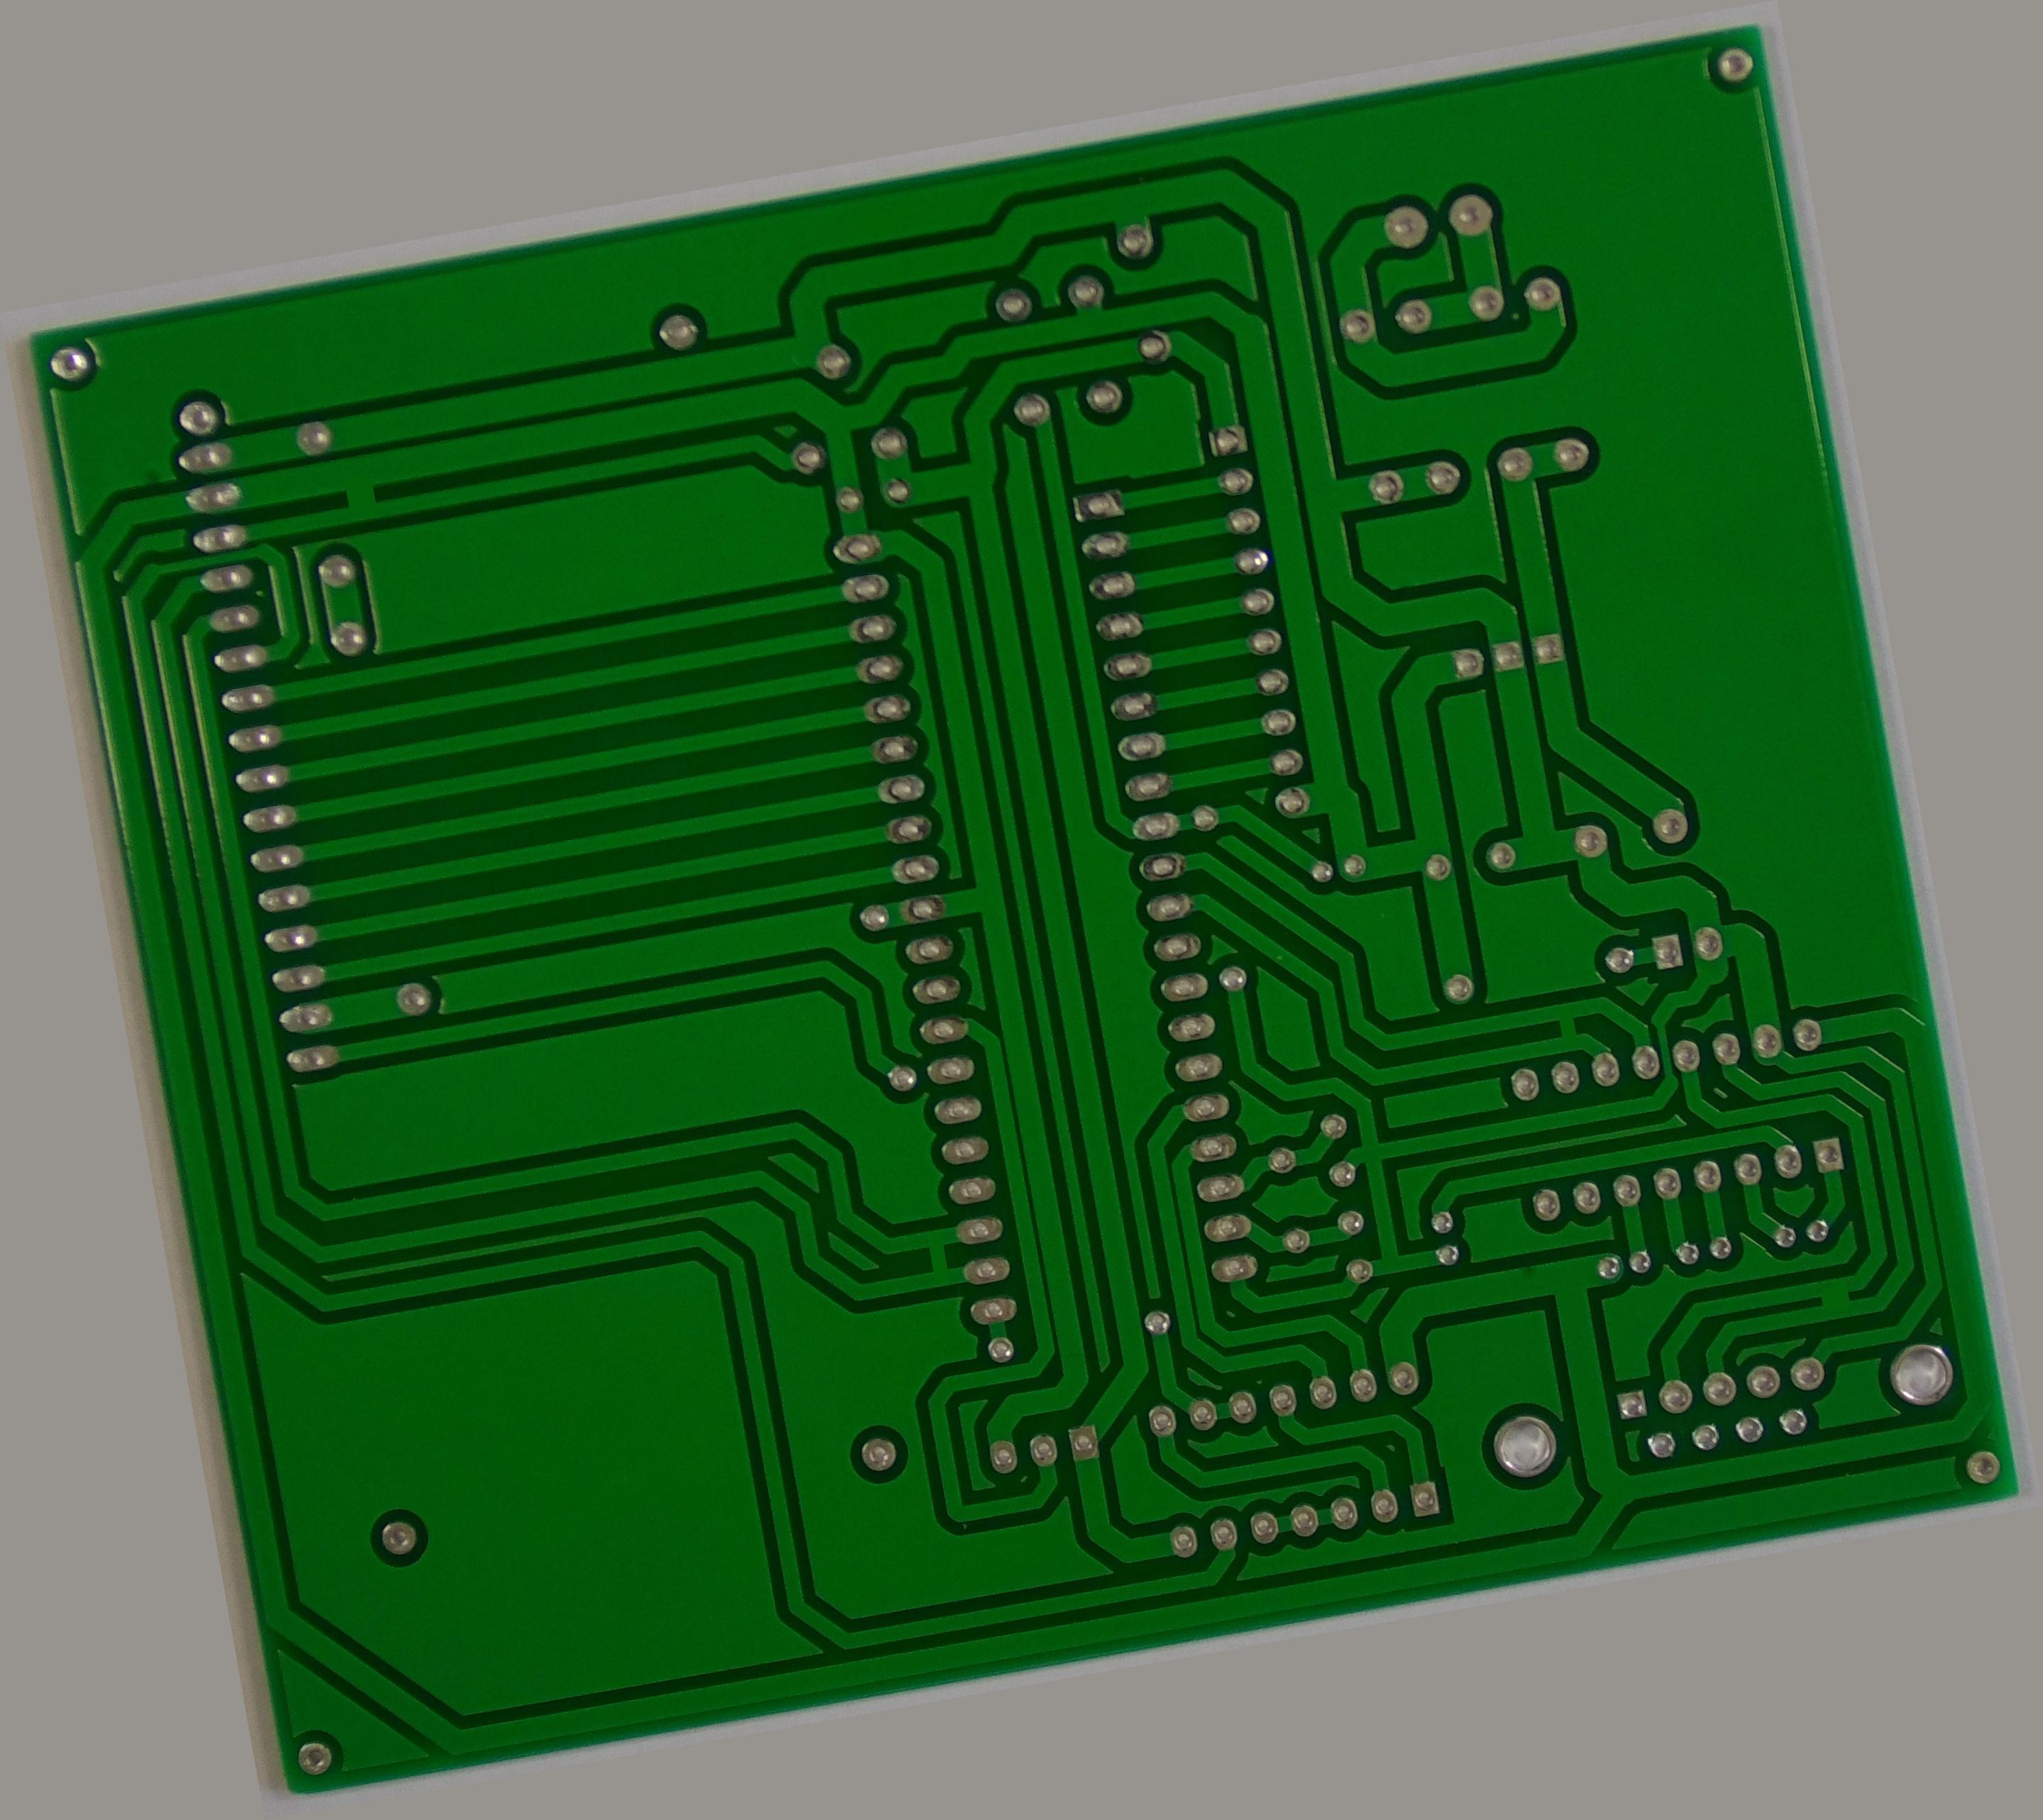short: (320, 248, 409, 325), (820, 1261, 891, 1342), (1811, 1502, 1897, 1567), (1574, 1126, 1641, 1189)
